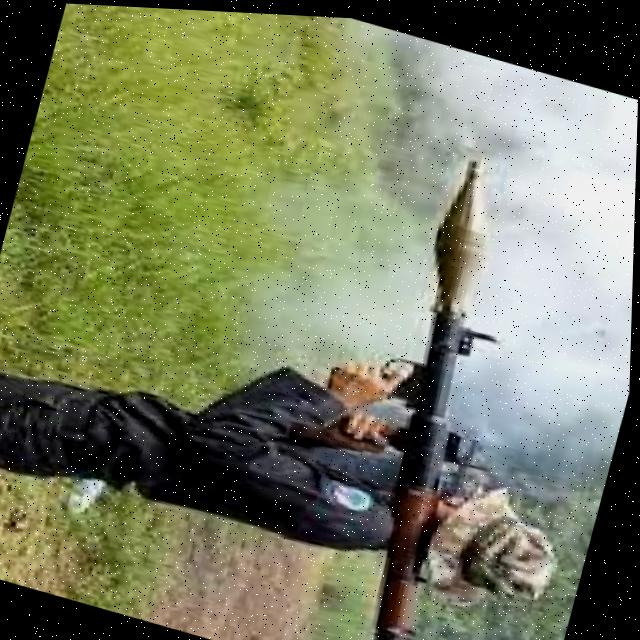rocket: (324, 136, 561, 640)
